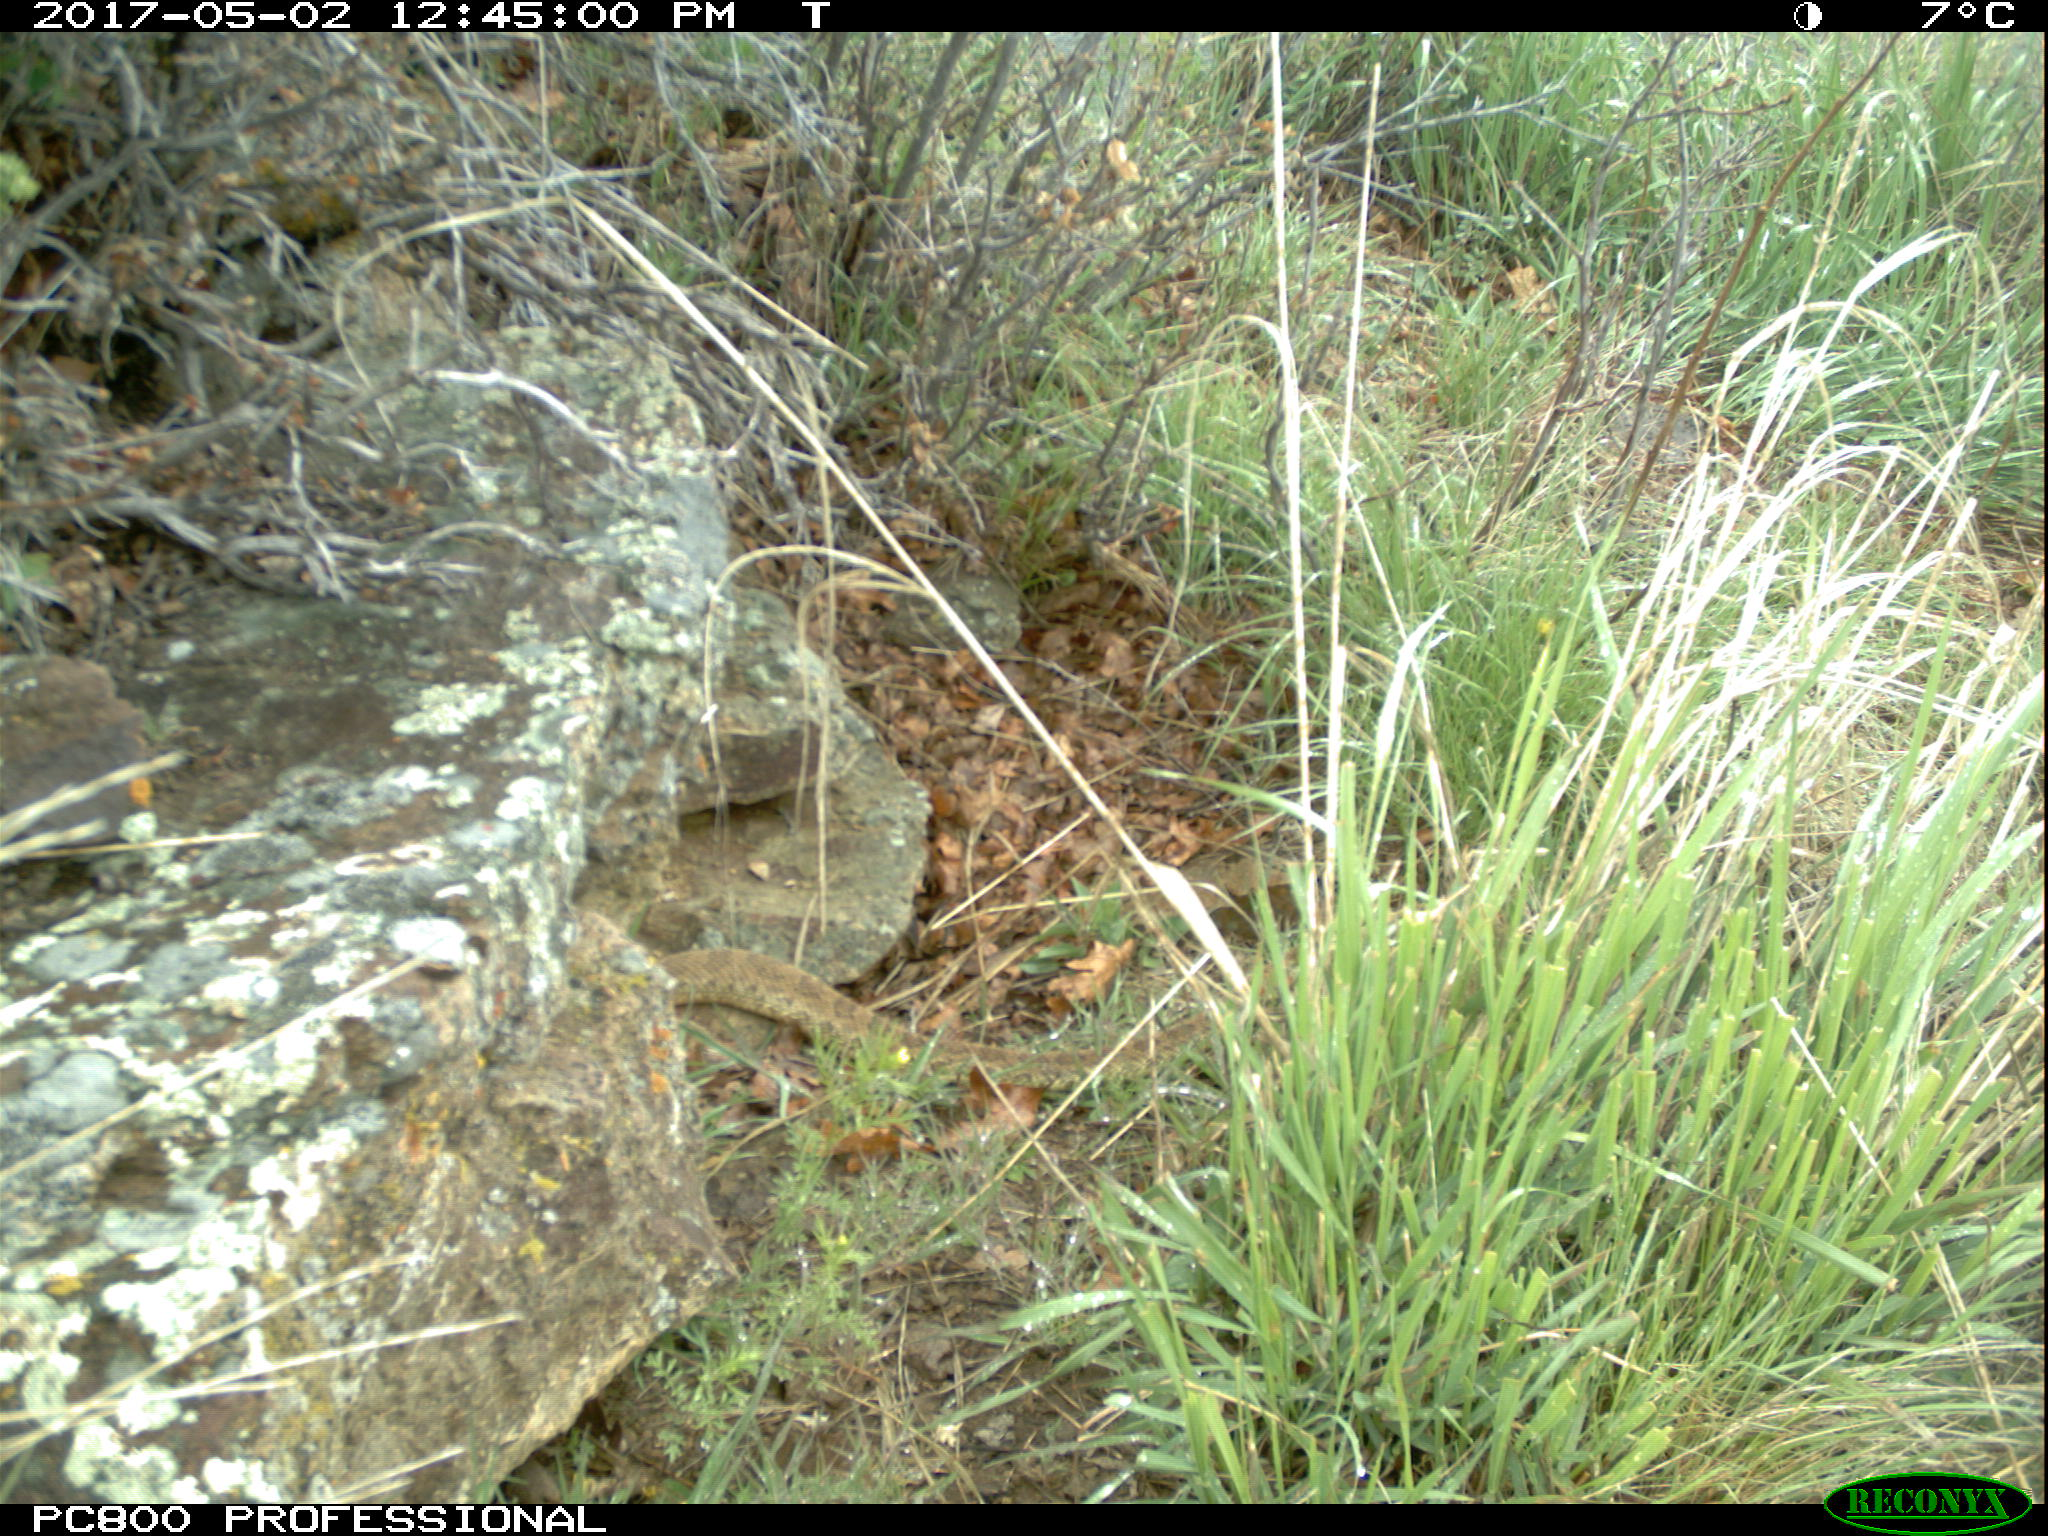snake: (656, 945, 1253, 1107)
